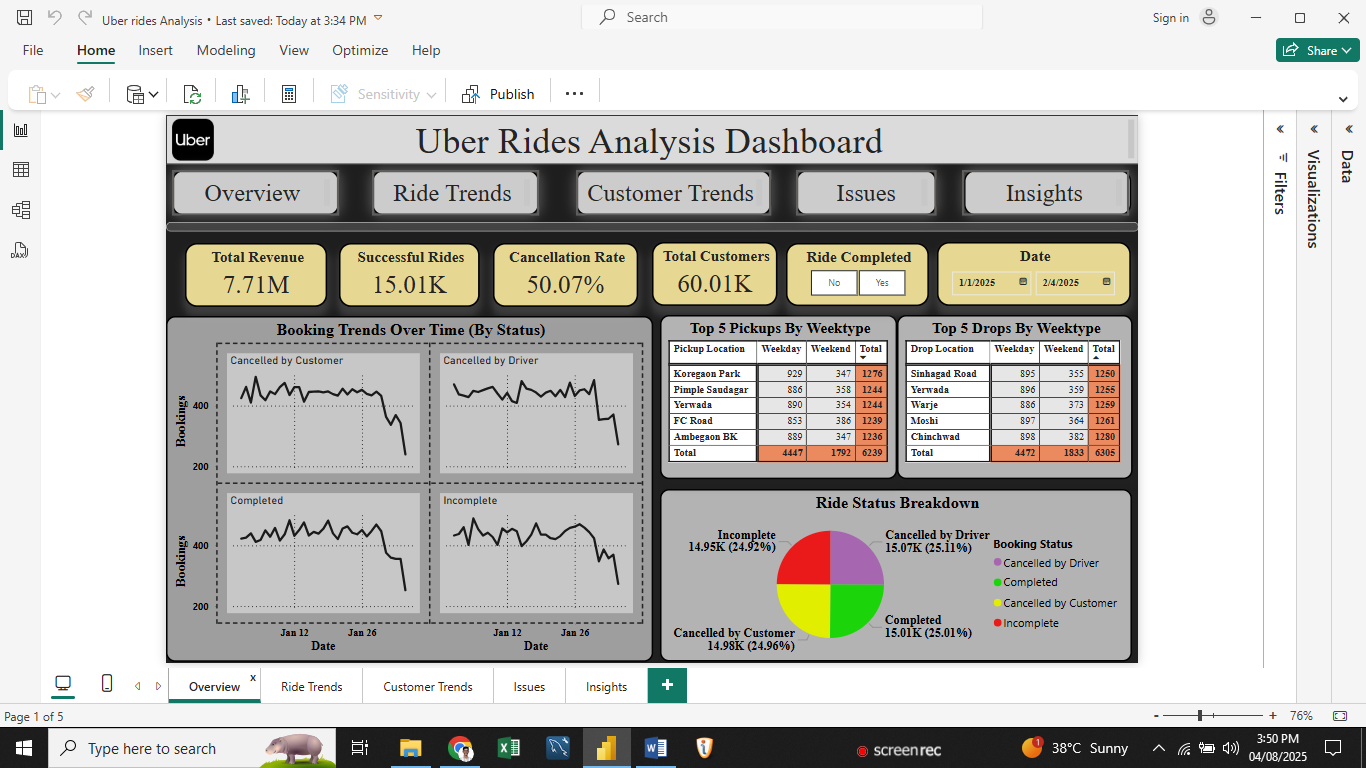

What the dashboard file says about the page in this screenshot:
{"tool":"powerbi","page":{"name":"Overview","canvas":[1280,720],"ordinal":0},"visuals":[{"type":"textbox","box":[0,0,1280,65.2],"z":0},{"type":"image","box":[0,0,70,65],"z":1000},{"type":"textbox","box":[7.8,72,219.8,60.3],"z":2000},{"type":"textbox","box":[270.4,72,219.8,60.3],"z":3000},{"type":"textbox","box":[540,72,257,60],"z":4000},{"type":"textbox","box":[829,72,185,60],"z":5000},{"type":"textbox","box":[1049.5,72,219.8,60.3],"z":6000},{"type":"actionButton","box":[270.4,72,219.8,60.3],"z":7000},{"type":"actionButton","box":[1048,72,220,60],"z":8000},{"type":"actionButton","box":[7.8,72,219.8,60.3],"z":9000},{"type":"shape","box":[0,141,1280,12.6],"z":10000},{"type":"card","title":"Total Customers","fields":{"Values":["CountNonNull(Uber_Pune_Booking_Data.Customer ID)"]},"box":[640,166.7,165.3,84],"z":11000},{"type":"card","title":"Cancellation Rate","fields":{"Values":["Uber_Pune_Booking_Data.Cancellation_Rate"]},"box":[430.7,168,190.7,84],"z":12000},{"type":"card","title":"Successful Rides","fields":{"Values":["CountNonNull(Uber_Pune_Booking_Data.Ride Completed)"]},"box":[228,168,185.3,84],"z":13000},{"type":"card","title":"Total Revenue","fields":{"Values":["Sum(Uber_Pune_Booking_Data.Booking Value)"]},"box":[24.8,167.9,187.2,84],"z":14000},{"type":"lineChart","title":"Booking Trends Over Time (By Status)","fields":{"Category":["Uber_Pune_Booking_Data.Date"],"Y":["CountNonNull(Uber_Pune_Booking_Data.Booking ID)"],"Rows":["Uber_Pune_Booking_Data.Booking Status"]},"box":[0,264.6,640.7,454.9],"z":15000},{"type":"pieChart","title":"Ride Status Breakdown","fields":{"Category":["Uber_Pune_Booking_Data.Booking Status"],"Y":["CountNonNull(Uber_Pune_Booking_Data.Booking ID)"]},"box":[649.7,492.1,621.4,227.5],"z":16000},{"type":"pivotTable","title":"Top 5 Pickups By Weektype","fields":{"Values":["CountNonNull(Uber_Pune_Booking_Data.Booking ID)"],"Rows":["Uber_Pune_Booking_Data.Pickup Location"],"Columns":["Uber_Pune_Booking_Data.WeekType"]},"box":[650,263.6,311.8,216],"z":17000},{"type":"slicer","title":"Date","fields":{"Values":["Uber_Pune_Booking_Data.Date"]},"box":[1014.7,166.7,254.7,84],"z":18000},{"type":"slicer","title":"Ride Completed","fields":{"Values":["Uber_Pune_Booking_Data.Ride Completed"]},"box":[816,168,188,82.7],"z":19000},{"type":"actionButton","box":[829,72,185,60],"z":20000},{"type":"actionButton","box":[540,72,257,60],"z":21000},{"type":"pivotTable","title":"Top 5 Drops By Weektype","fields":{"Values":["CountNonNull(Uber_Pune_Booking_Data.Booking ID)"],"Columns":["Uber_Pune_Booking_Data.WeekType"],"Rows":["Uber_Pune_Booking_Data.Drop Location"]},"box":[961.8,263.6,310,216.4],"z":22000}]}

Visuals, with their boxes on the page's 1280x720 design canvas (x1, y1, x2, y2). These are canvas units, not pixel positions in the 1366x768 screenshot, which may show the page scaled, cropped or inside an application window:
textbox: {"left": 0, "top": 0, "right": 1280, "bottom": 65}
image: {"left": 0, "top": 0, "right": 70, "bottom": 65}
textbox: {"left": 8, "top": 72, "right": 228, "bottom": 132}
textbox: {"left": 270, "top": 72, "right": 490, "bottom": 132}
textbox: {"left": 540, "top": 72, "right": 797, "bottom": 132}
textbox: {"left": 829, "top": 72, "right": 1014, "bottom": 132}
textbox: {"left": 1050, "top": 72, "right": 1269, "bottom": 132}
actionButton: {"left": 270, "top": 72, "right": 490, "bottom": 132}
actionButton: {"left": 1048, "top": 72, "right": 1268, "bottom": 132}
actionButton: {"left": 8, "top": 72, "right": 228, "bottom": 132}
shape: {"left": 0, "top": 141, "right": 1280, "bottom": 154}
"Total Customers" card: {"left": 640, "top": 167, "right": 805, "bottom": 251}
"Cancellation Rate" card: {"left": 431, "top": 168, "right": 621, "bottom": 252}
"Successful Rides" card: {"left": 228, "top": 168, "right": 413, "bottom": 252}
"Total Revenue" card: {"left": 25, "top": 168, "right": 212, "bottom": 252}
"Booking Trends Over Time (By Status)" lineChart: {"left": 0, "top": 265, "right": 641, "bottom": 720}
"Ride Status Breakdown" pieChart: {"left": 650, "top": 492, "right": 1271, "bottom": 720}
"Top 5 Pickups By Weektype" pivotTable: {"left": 650, "top": 264, "right": 962, "bottom": 480}
"Date" slicer: {"left": 1015, "top": 167, "right": 1269, "bottom": 251}
"Ride Completed" slicer: {"left": 816, "top": 168, "right": 1004, "bottom": 251}
actionButton: {"left": 829, "top": 72, "right": 1014, "bottom": 132}
actionButton: {"left": 540, "top": 72, "right": 797, "bottom": 132}
"Top 5 Drops By Weektype" pivotTable: {"left": 962, "top": 264, "right": 1272, "bottom": 480}
